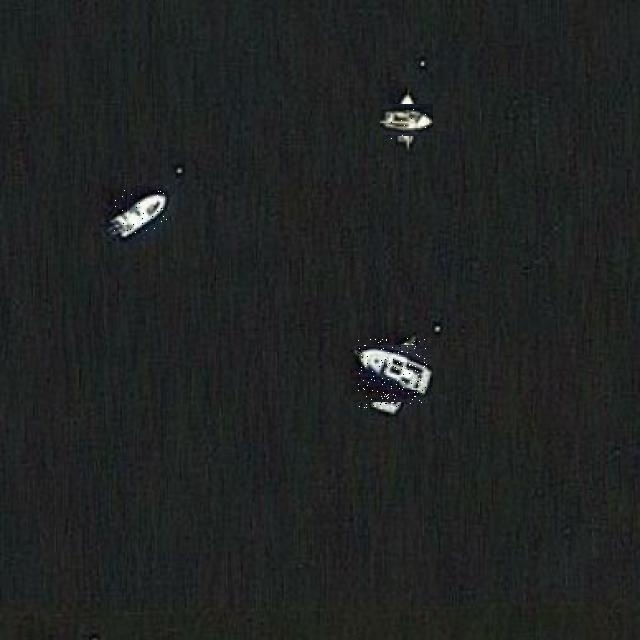boat: (357, 338, 427, 409), (107, 190, 168, 236), (384, 99, 428, 141)
